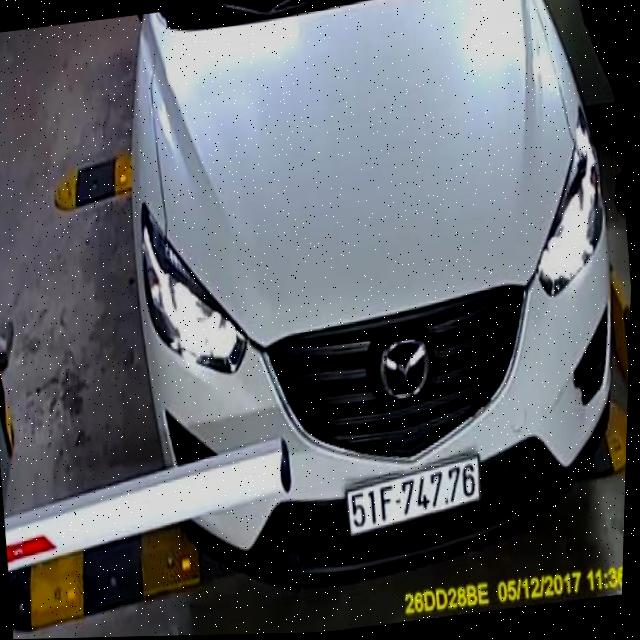car: (85, 0, 640, 613)
plate: (337, 457, 501, 541)
